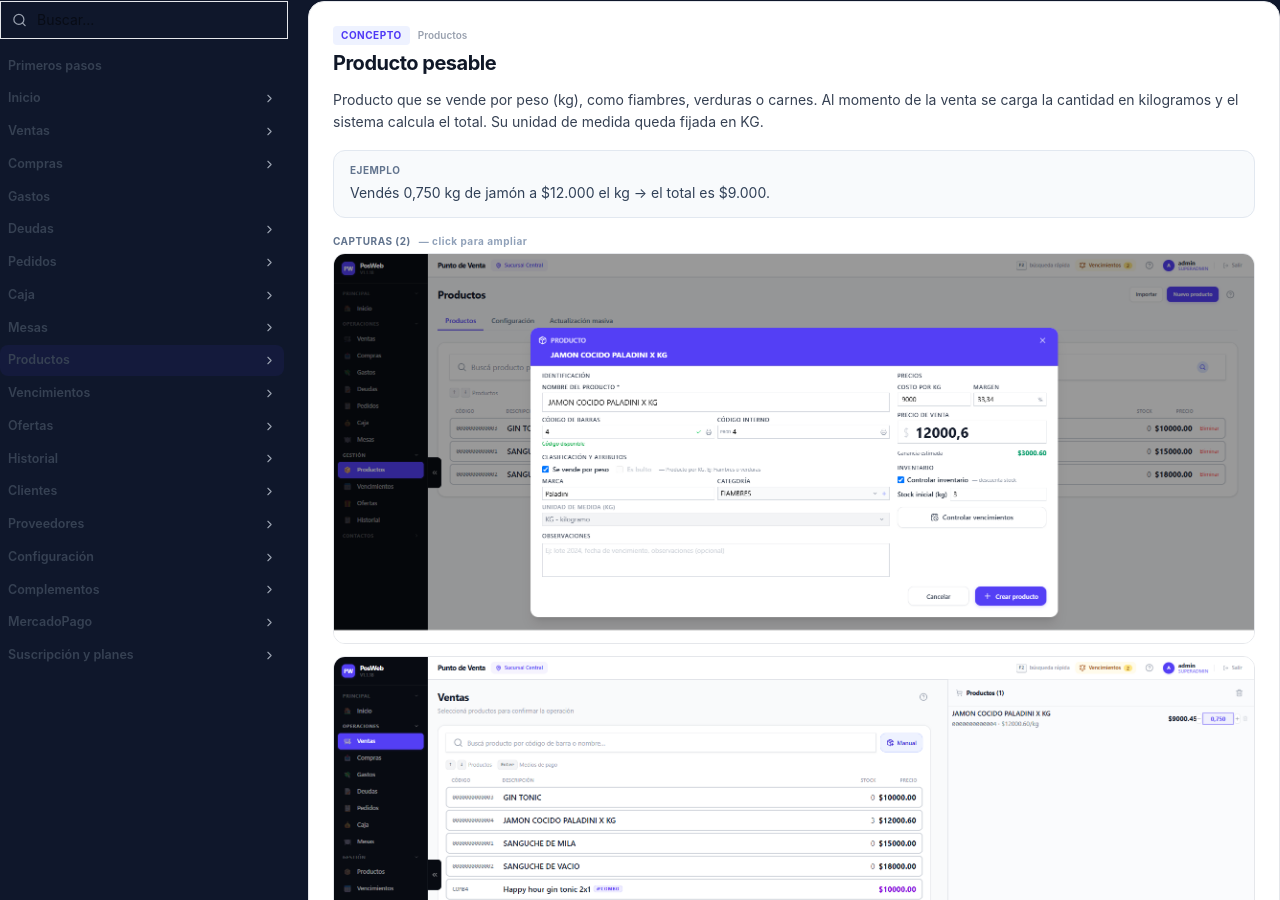
Test case: AyudaPage › abre el lightbox al hacer click en una captura
(page scrolled)
What coordinates should you click on to do the following:
click the button named "Ampliar captura 1"
I would click on:
 (794, 448)
Its box is [333,253,1255,644].
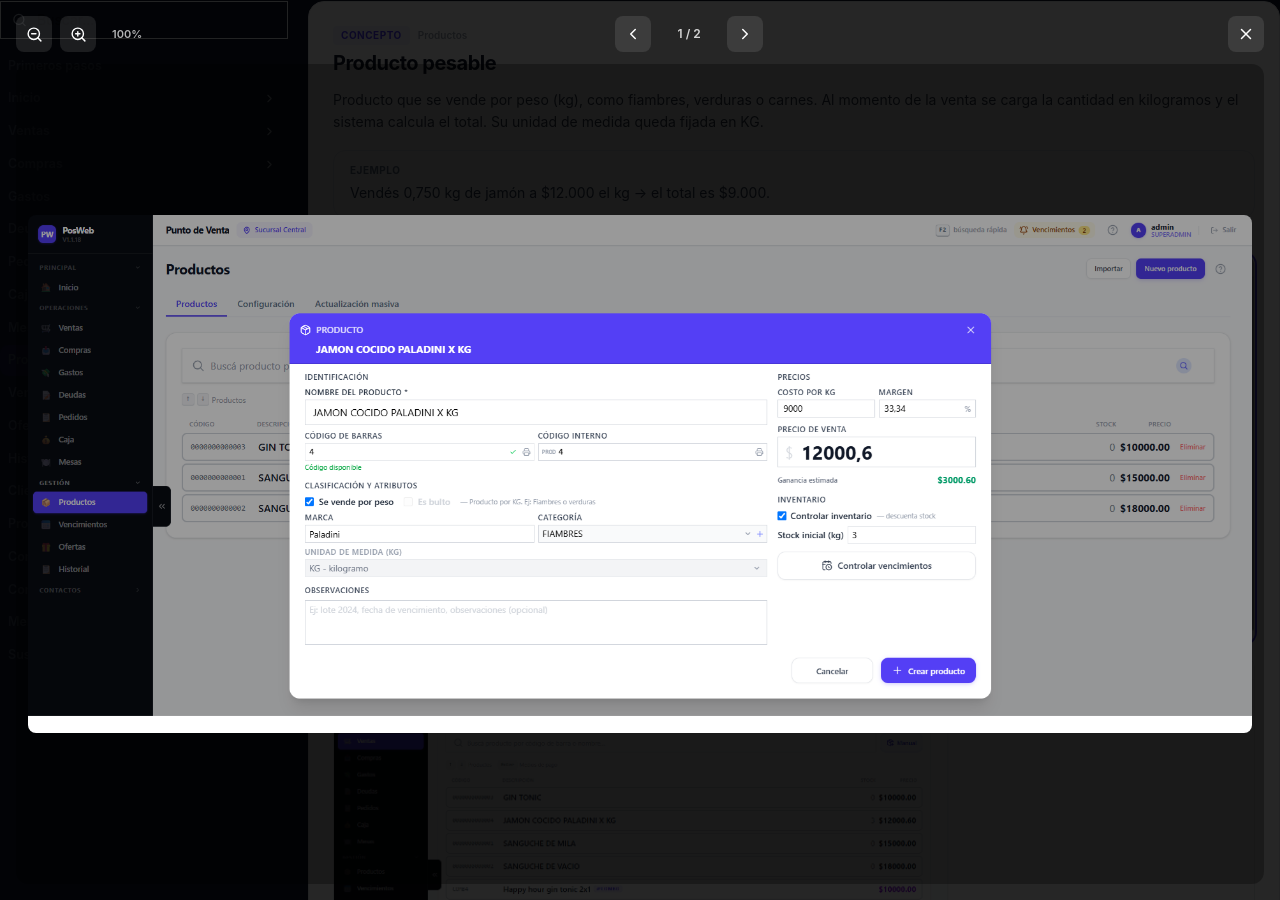
Expected: the button named "Cerrar" is shown, [1228,16,1264,52]
